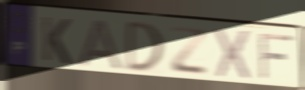A: (77, 18, 126, 72)
D: (124, 18, 165, 73)
F: (258, 31, 297, 82)
K: (40, 14, 73, 67)
X: (213, 26, 253, 83)
Z: (168, 24, 209, 78)
